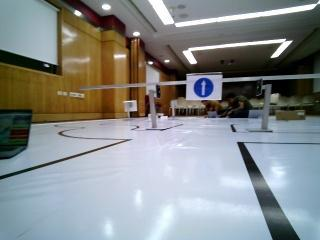straight: (186, 72, 223, 100)
